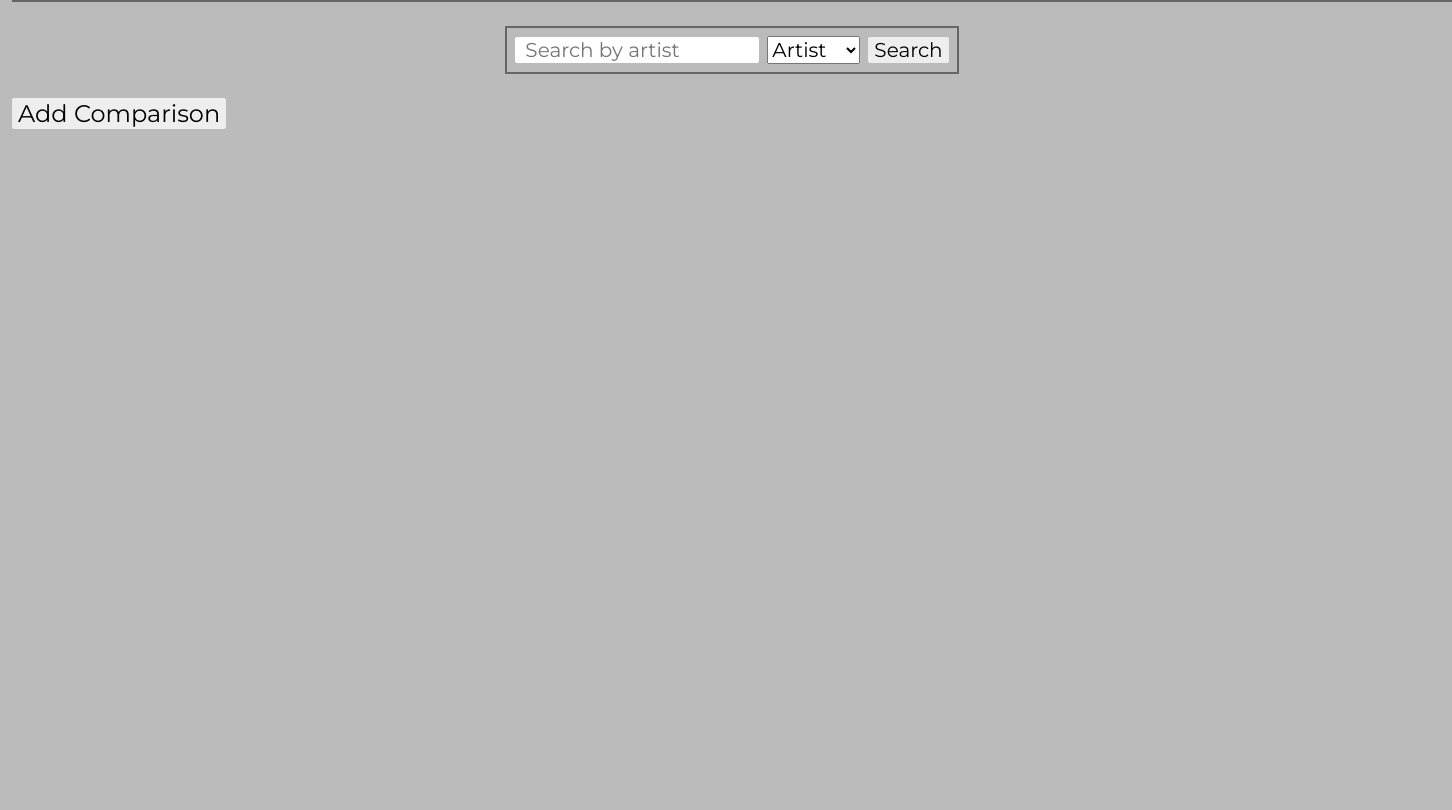
Scenario: shows one pane by default, allows up to four panes to be created, deleting panes deletes the correct pane
The width and height of the screenshot is (1452, 810).
Expected: the element with test id "0" is shown, [505,26,959,74]
Click the button "Add Comparison" at (119, 114), box [12,98,226,129]
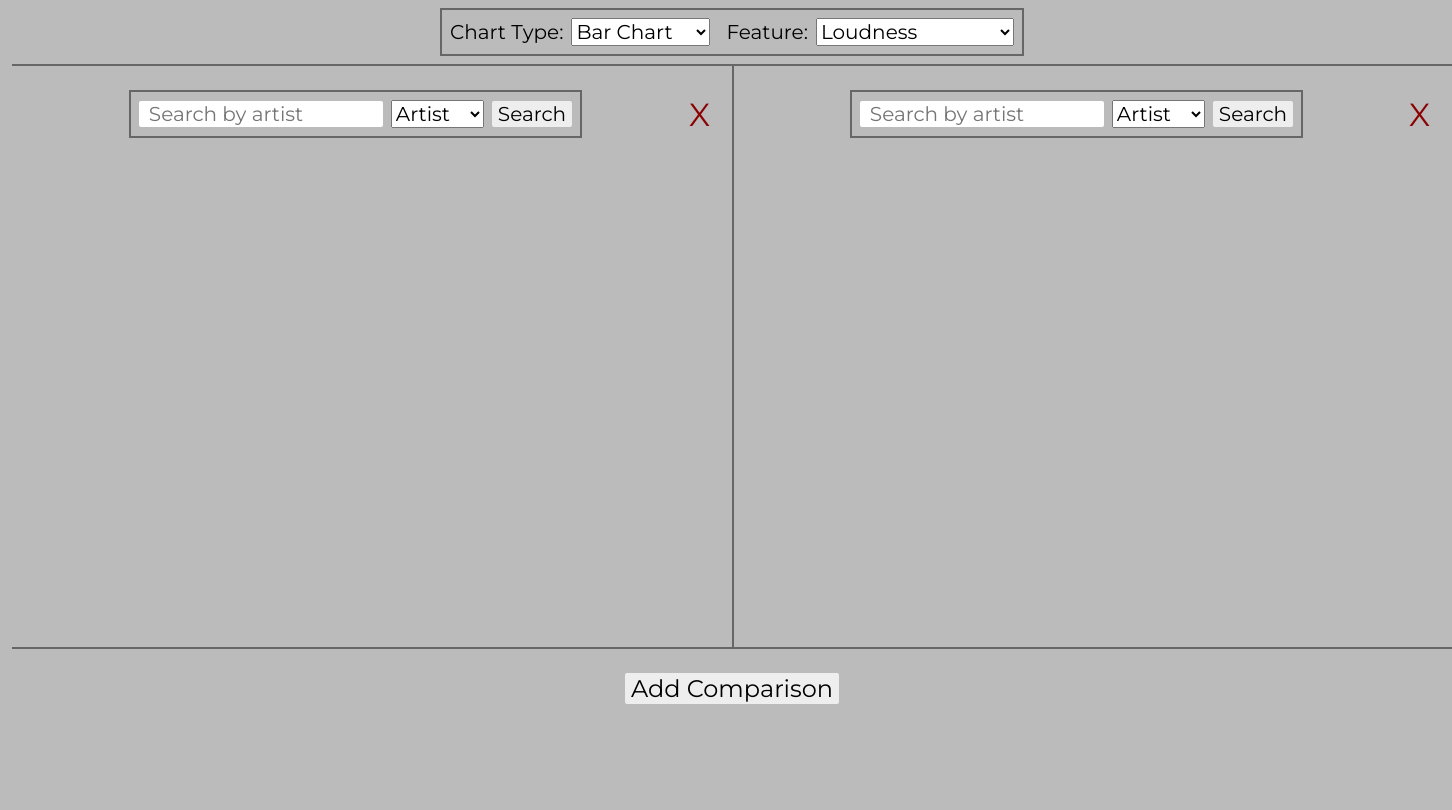
Expected: the element with test id "1" is shown, [732,66,1451,649]
Click the button "Add Comparison" at (732, 688), box [625,673,839,704]
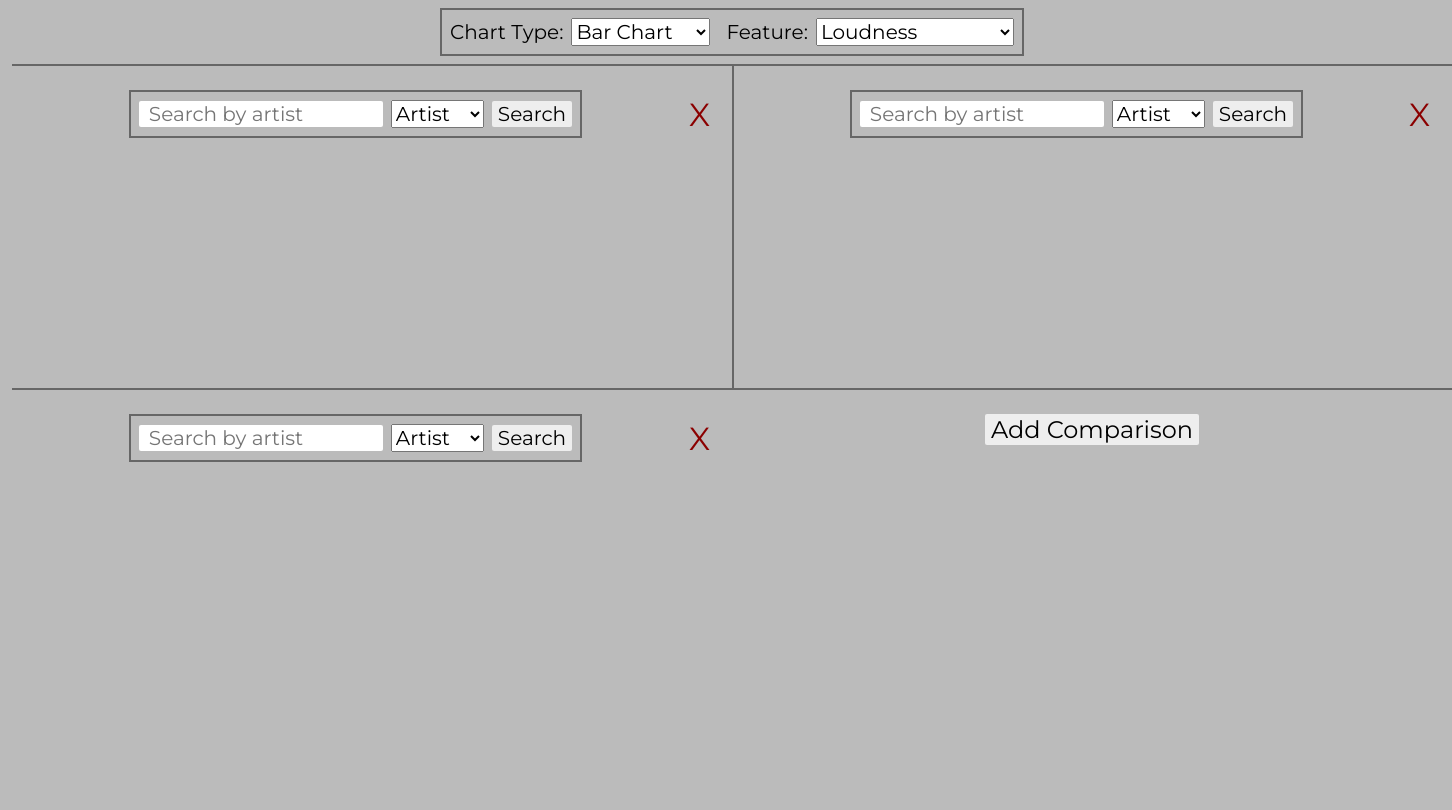
Expected: the element with test id "2" is shown, [129,406,716,462]
Click the button "Add Comparison" at (1092, 430), box [985,414,1199,445]
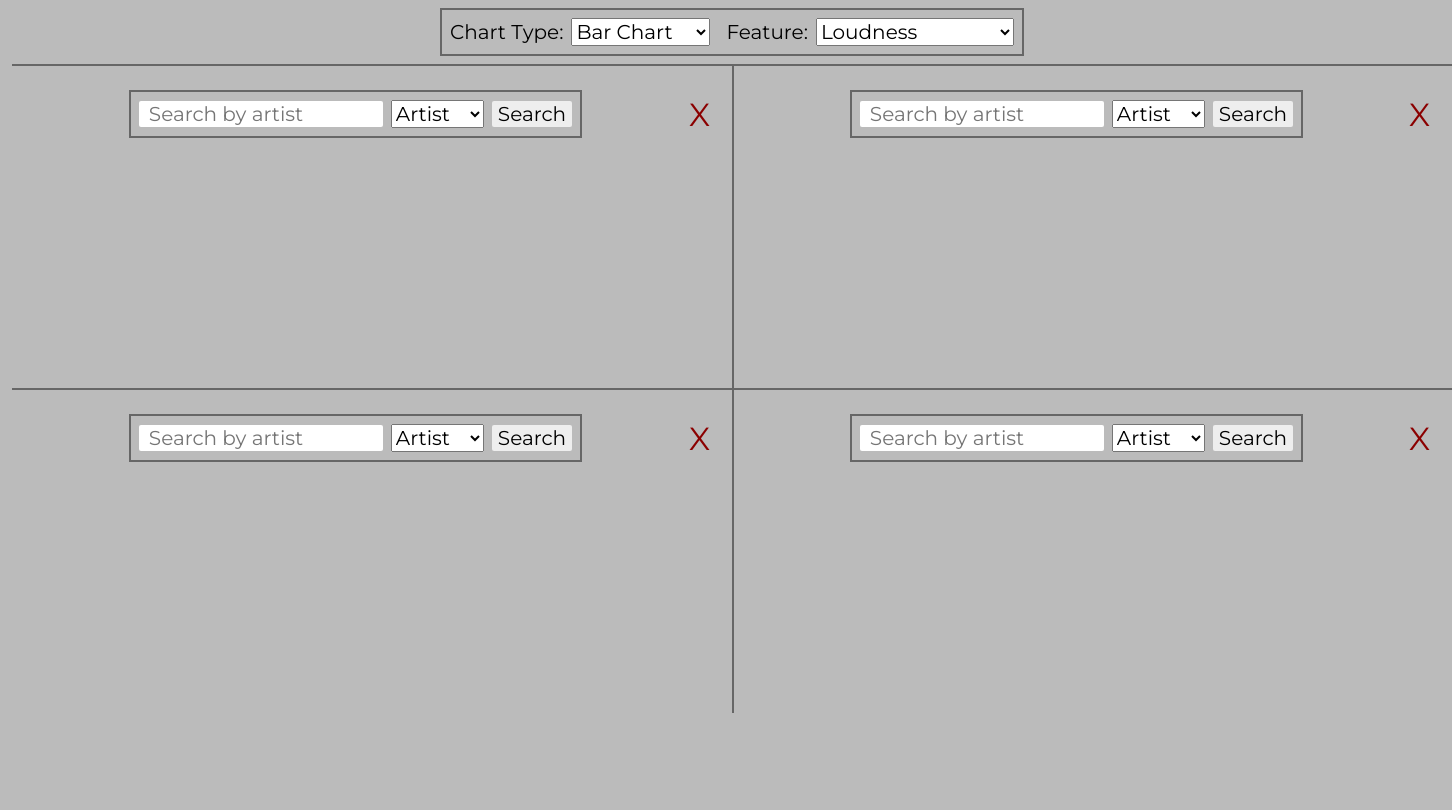
Expected: the element with test id "3" is shown, [732,390,1451,713]
Expected: the button "Add Comparison" is gone
Click the button with test id "delete-2" at (700, 433), box [683,406,716,459]
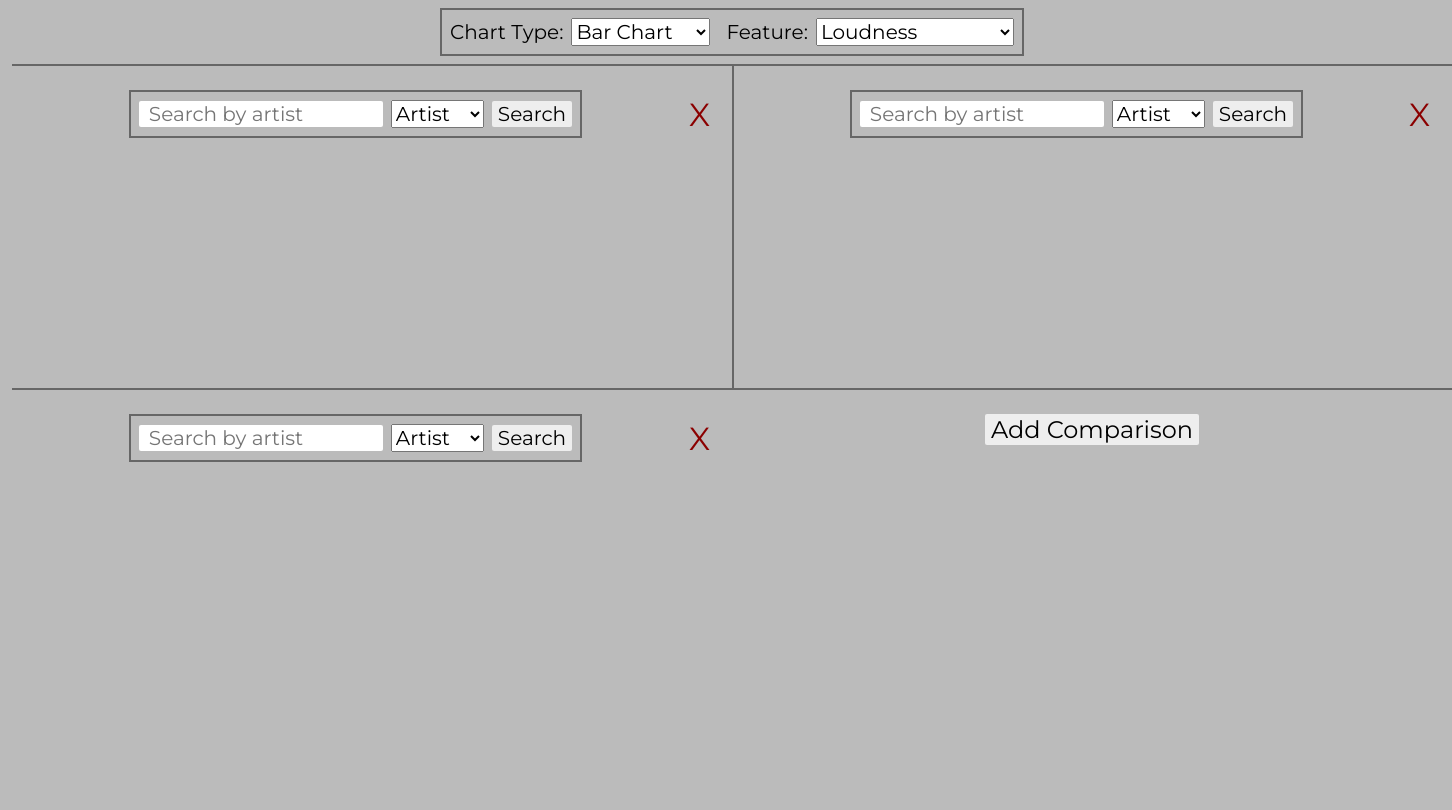
Expected: the element with test id "2" is gone
Expected: the button "Add Comparison" is shown, [985,414,1199,445]
